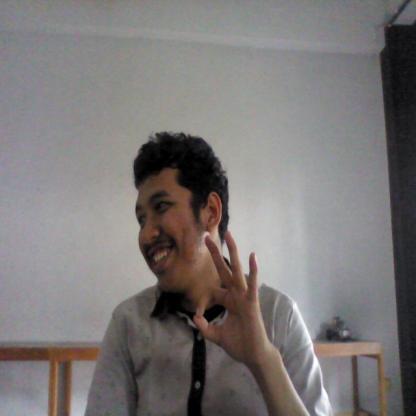O: (183, 232, 274, 356)
